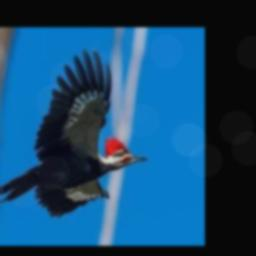Woodpecker: (0, 48, 147, 217)
